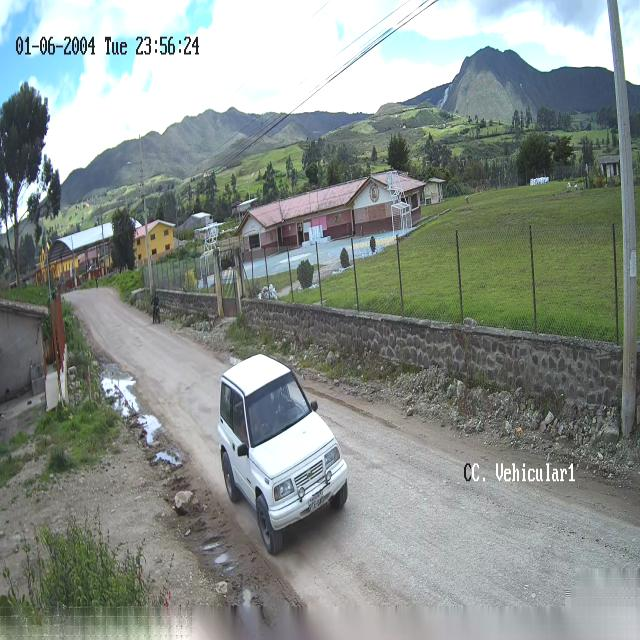SUV: (217, 356, 349, 555)
